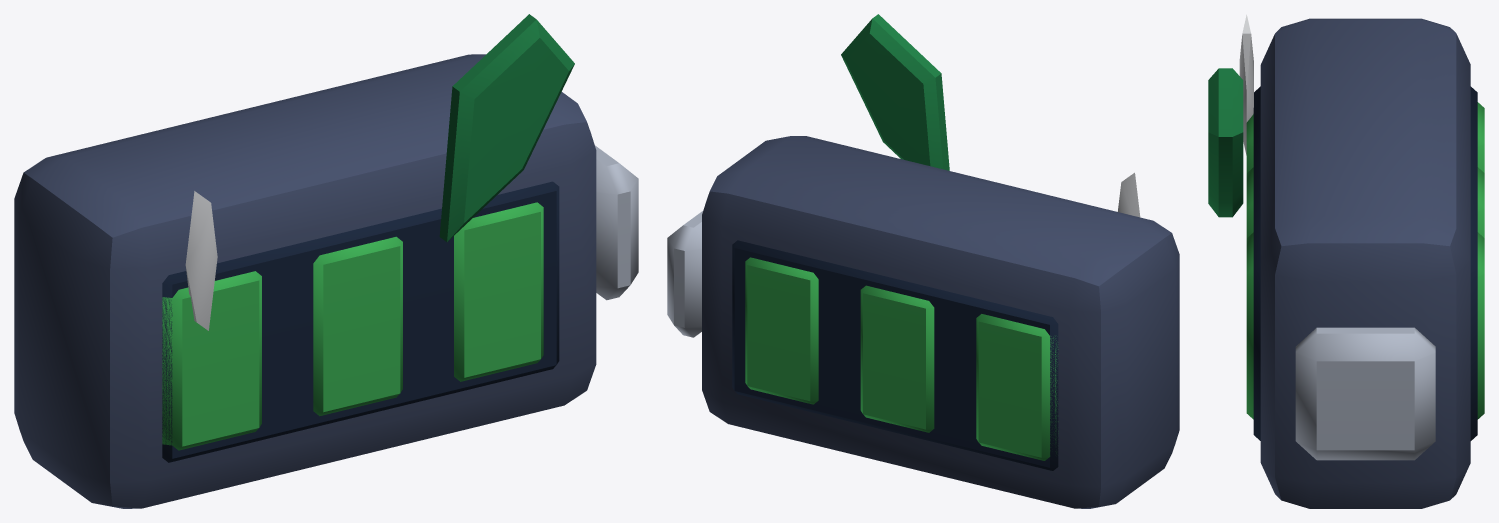
File: ui_battery.glb
3 renders of one model, left to right at view 1: azimuth 30°, elevation 25°; view 2: azimuth 150°, elevation 25°; view 3: azimuth 270°, elevation 25°, orthographic. The views are drawn at different scales.
Parts seen in each view (by area): view 1: body; view 2: body; view 3: body.
Part boxes in pixels (<box>): body: <box>14,14,638,508</box>; body: <box>667,14,1179,508</box>; body: <box>1208,14,1484,508</box>.
Bounding box in the file's own units: 0.44 × 0.325 × 0.1975.
